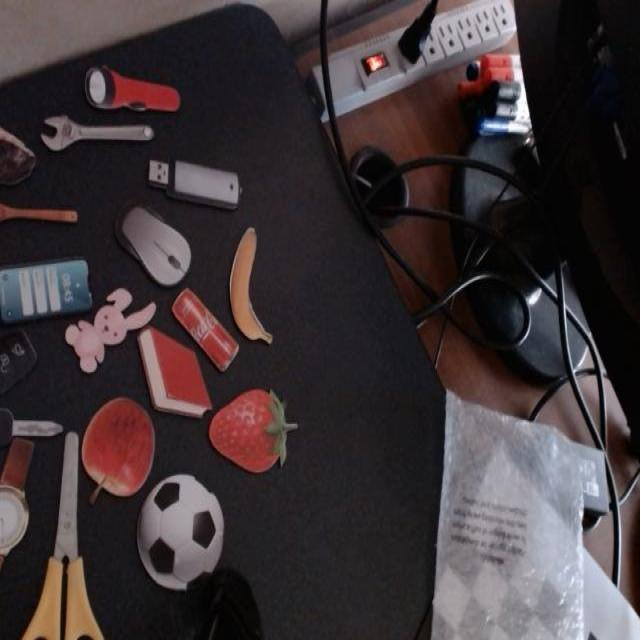Other Objects: (19, 429, 105, 639), (134, 471, 225, 593), (111, 199, 197, 296), (80, 396, 155, 504), (64, 285, 156, 373), (219, 227, 272, 352), (0, 255, 93, 325), (170, 285, 239, 372), (146, 154, 242, 211), (84, 63, 181, 118), (40, 113, 154, 151), (0, 436, 33, 567)
